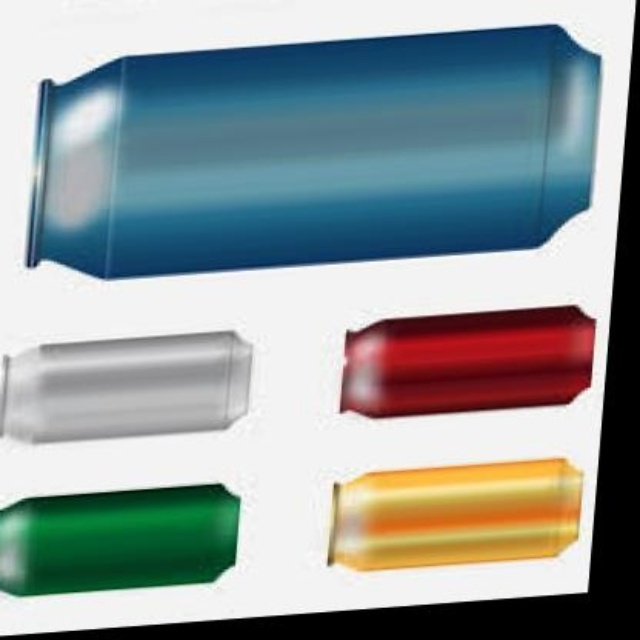trash: (28, 25, 598, 277), (328, 458, 582, 569), (340, 306, 594, 417), (0, 331, 251, 442), (0, 485, 238, 594)
